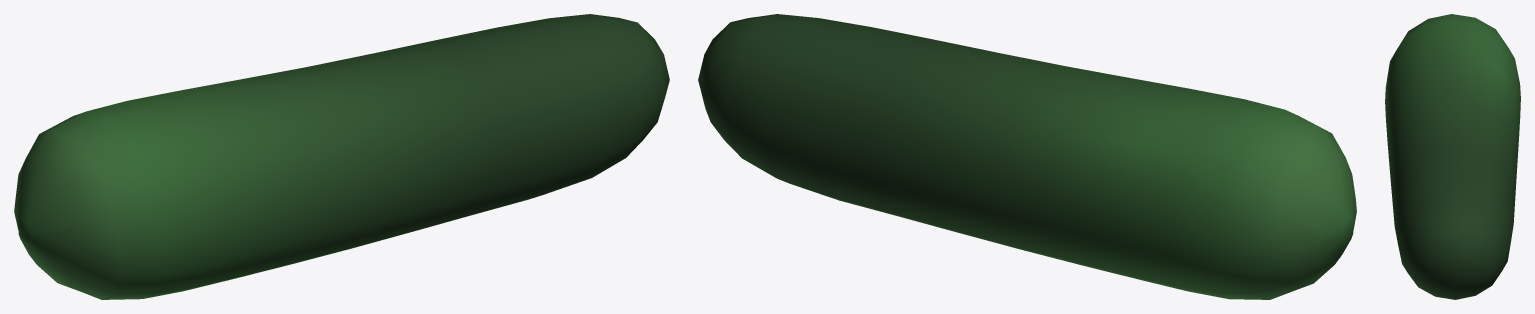
The model's file is consumables-vegetables-cucumber_v1.glb.
The picture shows the model from 3 angles, left to right: view 1: azimuth 30°, elevation 25°; view 2: azimuth 150°, elevation 25°; view 3: azimuth 270°, elevation 25°; orthographic projection. The views are drawn at different scales.
Parts seen in each view (by area): view 1: Cucumber.001; view 2: Cucumber.001; view 3: Cucumber.001.
Part boxes in pixels (x1,y1,x2,y2): Cucumber.001: [14, 14, 669, 299]; Cucumber.001: [698, 14, 1356, 299]; Cucumber.001: [1385, 14, 1520, 299].
Size of the model in its own units: 0.2218 by 0.0592 by 0.0588.
